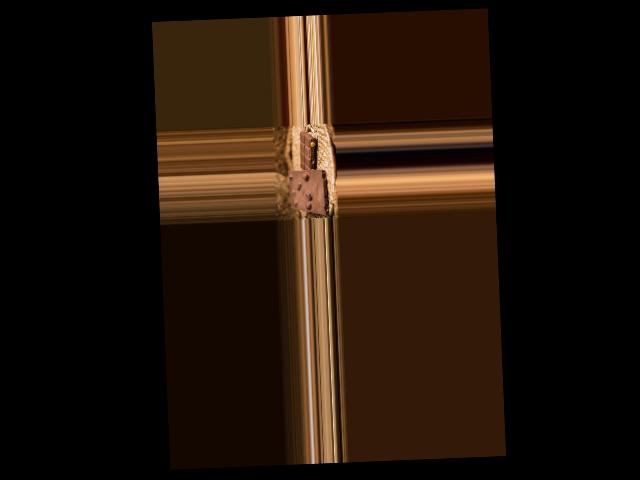chocolate: (287, 166, 328, 216)
